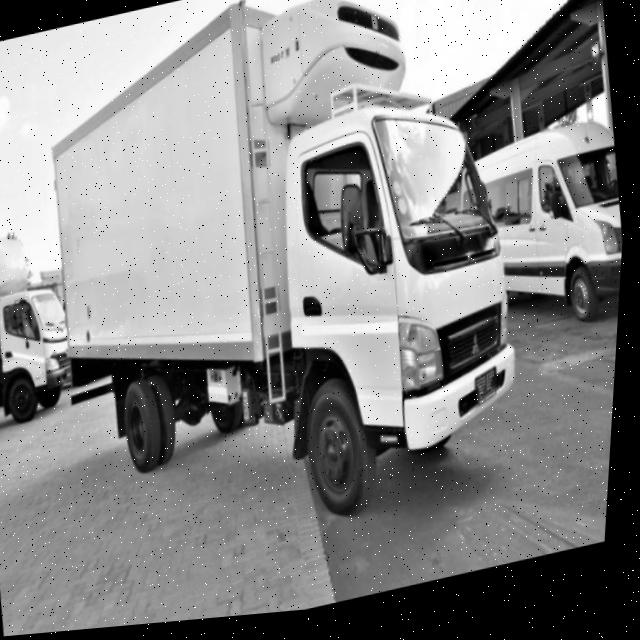truck: (191, 41, 563, 519), (1, 259, 86, 420)
